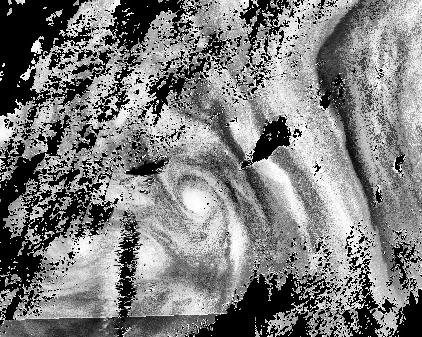CE: (165, 166, 227, 227)
